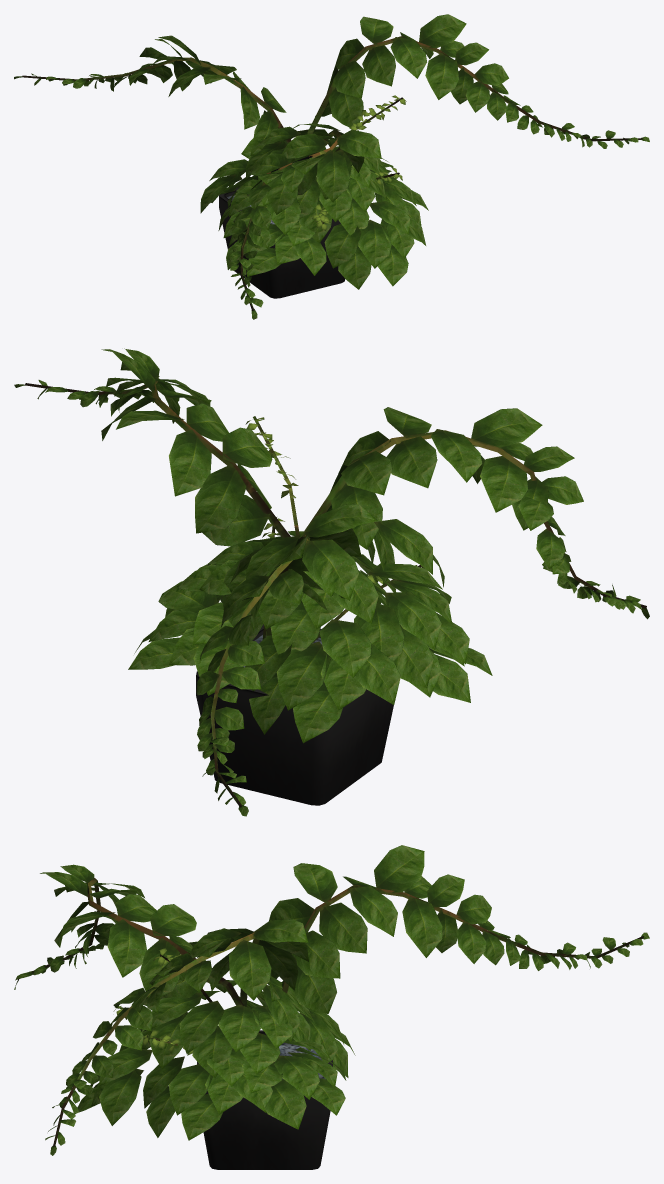
The model's file is Twilfordii.FBX.
3 renders of one model, top to bottom at view 1: azimuth 30°, elevation 25°; view 2: azimuth 150°, elevation 25°; view 3: azimuth 270°, elevation 25°, orthographic. The views are drawn at different scales.
Parts seen in each view (by area): view 1: TWilfordii2Mesh, Pot5Mesh; view 2: TWilfordii2Mesh, Pot5Mesh; view 3: TWilfordii2Mesh, Pot5Mesh.
Boxes of the visible parts, x1,y1,x2,y2 form: TWilfordii2Mesh: (14,14,649,319); Pot5Mesh: (219,187,345,298); TWilfordii2Mesh: (14,348,649,816); Pot5Mesh: (196,624,393,805); TWilfordii2Mesh: (14,845,649,1155); Pot5Mesh: (197,1030,332,1169).
Size of the model in its own units: 61.7 by 33.77 by 66.1.
1 material, 1 textured.
